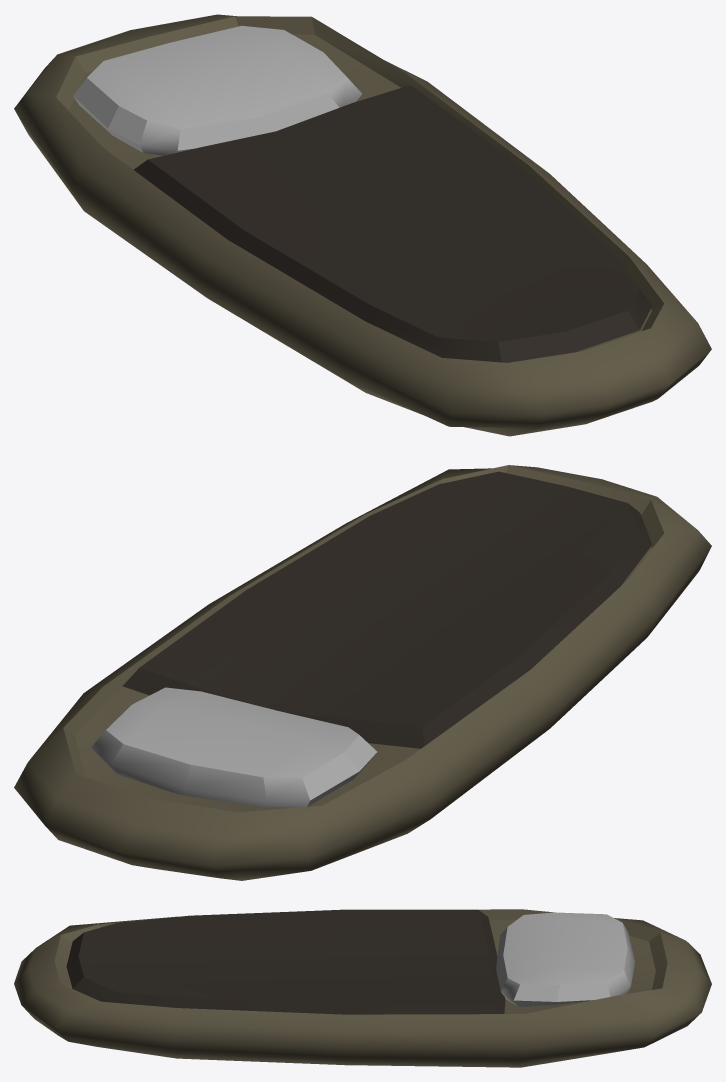
Rendered from bedroll.fbx.
3 renders of one model, top to bottom at view 1: azimuth 30°, elevation 25°; view 2: azimuth 150°, elevation 25°; view 3: azimuth 270°, elevation 25°, orthographic. The views are drawn at different scales.
Visible parts, largest first — view 1: polySurface17, polySurface18, polySurface19; view 2: polySurface17, polySurface18, polySurface19; view 3: polySurface18, polySurface17, polySurface19.
Boxes of the visible parts, x1,y1,x2,y2 form: polySurface17: [134, 85, 651, 362]; polySurface18: [14, 14, 711, 436]; polySurface19: [73, 26, 361, 155]; polySurface17: [122, 471, 652, 748]; polySurface18: [14, 465, 711, 880]; polySurface19: [91, 687, 377, 807]; polySurface18: [14, 909, 711, 1067]; polySurface17: [66, 909, 505, 1014]; polySurface19: [496, 912, 634, 1006].
Bounding box in the file's own units: 0.6006 × 0.1887 × 1.42.
